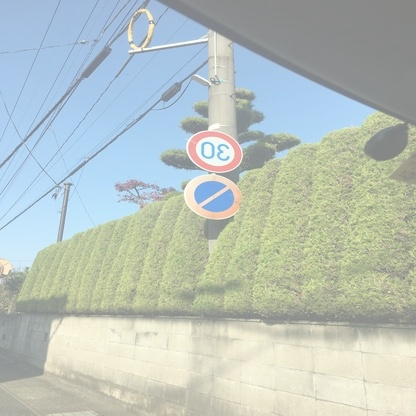Prohibition_sign: (182, 177, 247, 217)
Speed_sign: (182, 128, 245, 178)
